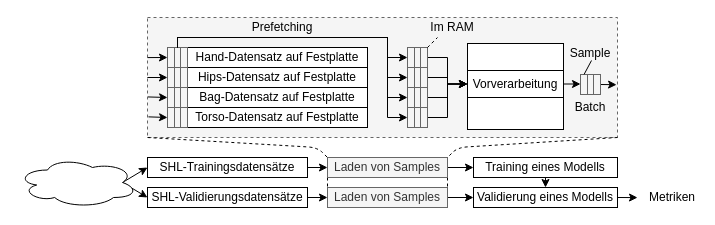
Some shapes in this 715 by 225 pixel diagram are drawn without their labels. The shapes that lost their labels are listed below. From the top down, each one's centre as x and y in pixels, then its label:
At point (515, 56): "Shuffling".
At point (515, 113): "Feature-Berechnung".
At point (77, 182): "shl-dataset.org".
